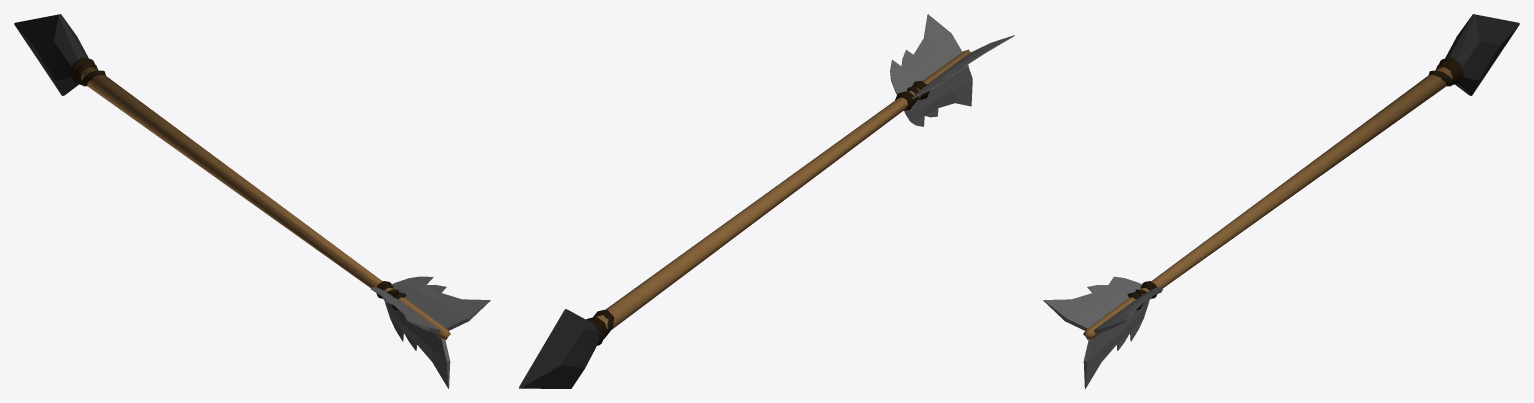
Rendered from arrow_LowPoly_UVS.fbx.
The picture shows the model from 3 angles, left to right: view 1: azimuth 30°, elevation 25°; view 2: azimuth 150°, elevation 25°; view 3: azimuth 330°, elevation 25°; orthographic projection. The views are drawn at different scales.
Parts seen in each view (by area): view 1: Palo_flecha; view 2: Palo_flecha; view 3: Palo_flecha.
Part boxes in pixels (box(x1,y1,x2,y2)): Palo_flecha: box(14, 14, 490, 388); Palo_flecha: box(519, 14, 1014, 388); Palo_flecha: box(1043, 14, 1519, 388).
Bounding box in the file's own units: 2.99 × 3.06 × 26.81.
